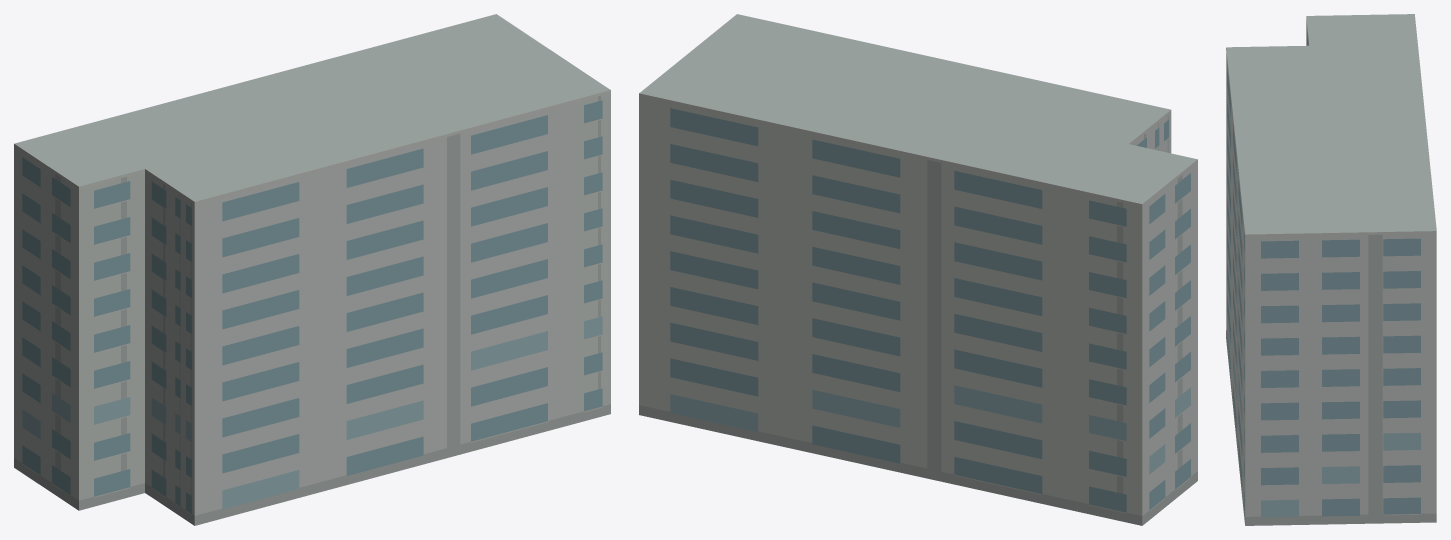
File: residential-ab9e37bf-903f-40fd-a3f9-0cbabf5d96e6.glb
3 renders of one model, left to right at view 1: azimuth 30°, elevation 25°; view 2: azimuth 150°, elevation 25°; view 3: azimuth 270°, elevation 25°, orthographic. The views are drawn at different scales.
Parts seen in each view (by area): view 1: residential-ab9e37bf-903f-40fd-a3f9-0cbabf5d96e6.tmp; view 2: residential-ab9e37bf-903f-40fd-a3f9-0cbabf5d96e6.tmp; view 3: residential-ab9e37bf-903f-40fd-a3f9-0cbabf5d96e6.tmp.
Boxes of the visible parts, x1,y1,x2,y2 form: residential-ab9e37bf-903f-40fd-a3f9-0cbabf5d96e6.tmp: [14, 14, 610, 525]; residential-ab9e37bf-903f-40fd-a3f9-0cbabf5d96e6.tmp: [639, 14, 1197, 525]; residential-ab9e37bf-903f-40fd-a3f9-0cbabf5d96e6.tmp: [1226, 14, 1436, 525].
Size of the model in its own units: 43.83 by 27 by 17.7.
